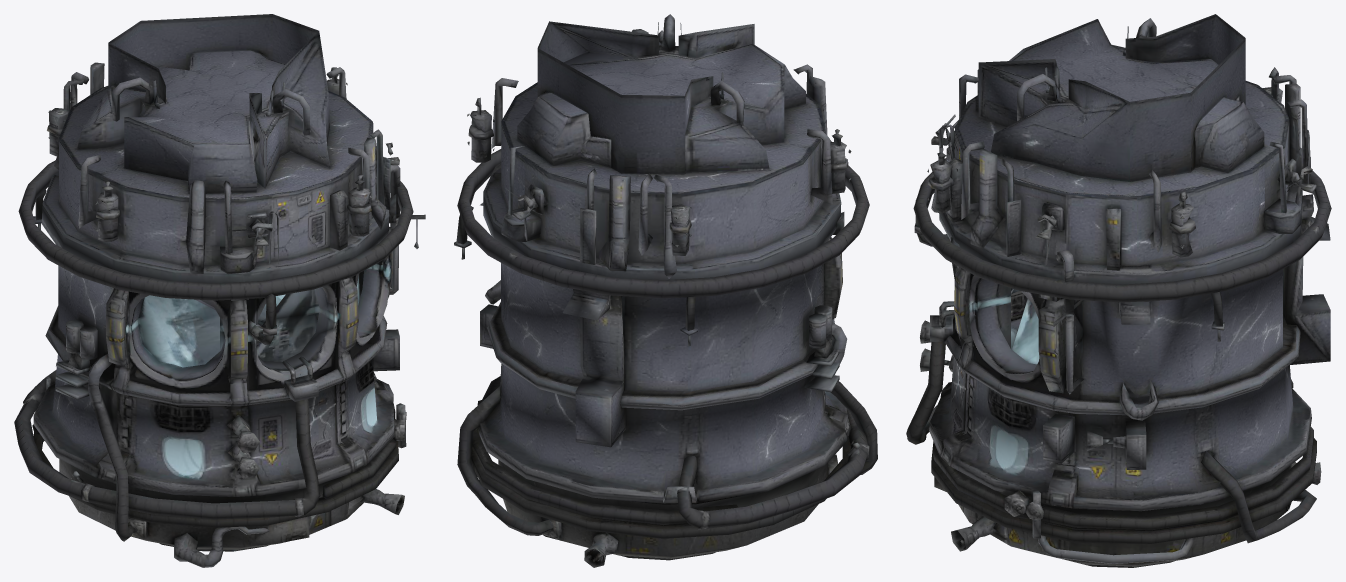
Rendered from selected.glb.
3 renders of one model, left to right at view 1: azimuth 30°, elevation 25°; view 2: azimuth 150°, elevation 25°; view 3: azimuth 270°, elevation 25°, orthographic. The views are drawn at different scales.
Parts seen in each view (by area): view 1: tripo_node_cd4b8c84-cb67-44fc-b47f-023d4b61d708; view 2: tripo_node_cd4b8c84-cb67-44fc-b47f-023d4b61d708; view 3: tripo_node_cd4b8c84-cb67-44fc-b47f-023d4b61d708.
Part boxes in pixels (x1=…): tripo_node_cd4b8c84-cb67-44fc-b47f-023d4b61d708: x1=14, y1=14, x2=425, y2=567; tripo_node_cd4b8c84-cb67-44fc-b47f-023d4b61d708: x1=454, y1=14, x2=877, y2=567; tripo_node_cd4b8c84-cb67-44fc-b47f-023d4b61d708: x1=906, y1=14, x2=1331, y2=567.
Size of the model in its own units: 0.8145 by 0.998 by 0.8027.
1 material, 1 textured.
